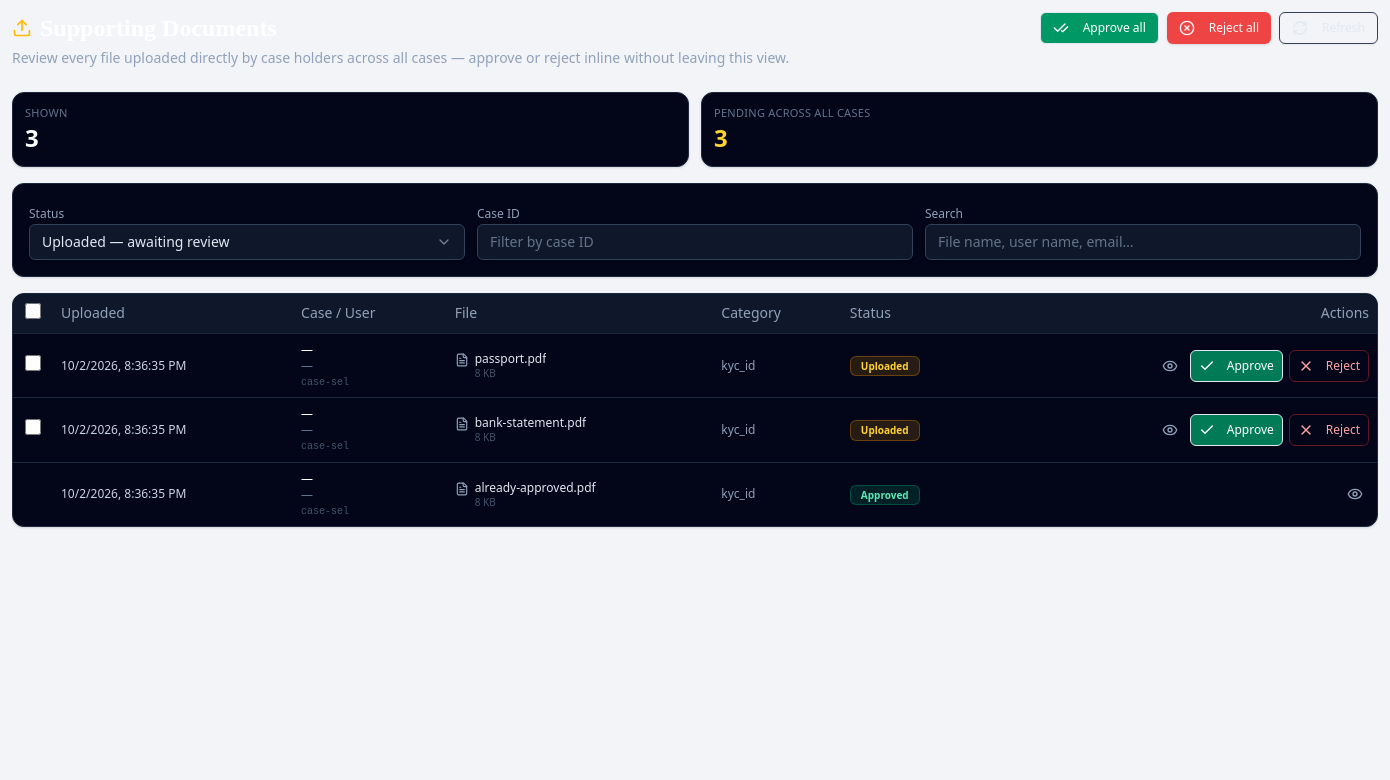
Test: SupportingDocumentsTab – checkbox selection (Task #446) › clicking select-all checks all actionable rows
Step 1. Click the checkbox with test id "checkbox-select-all-supporting-docs" → [33, 311], box [25, 303, 41, 319]
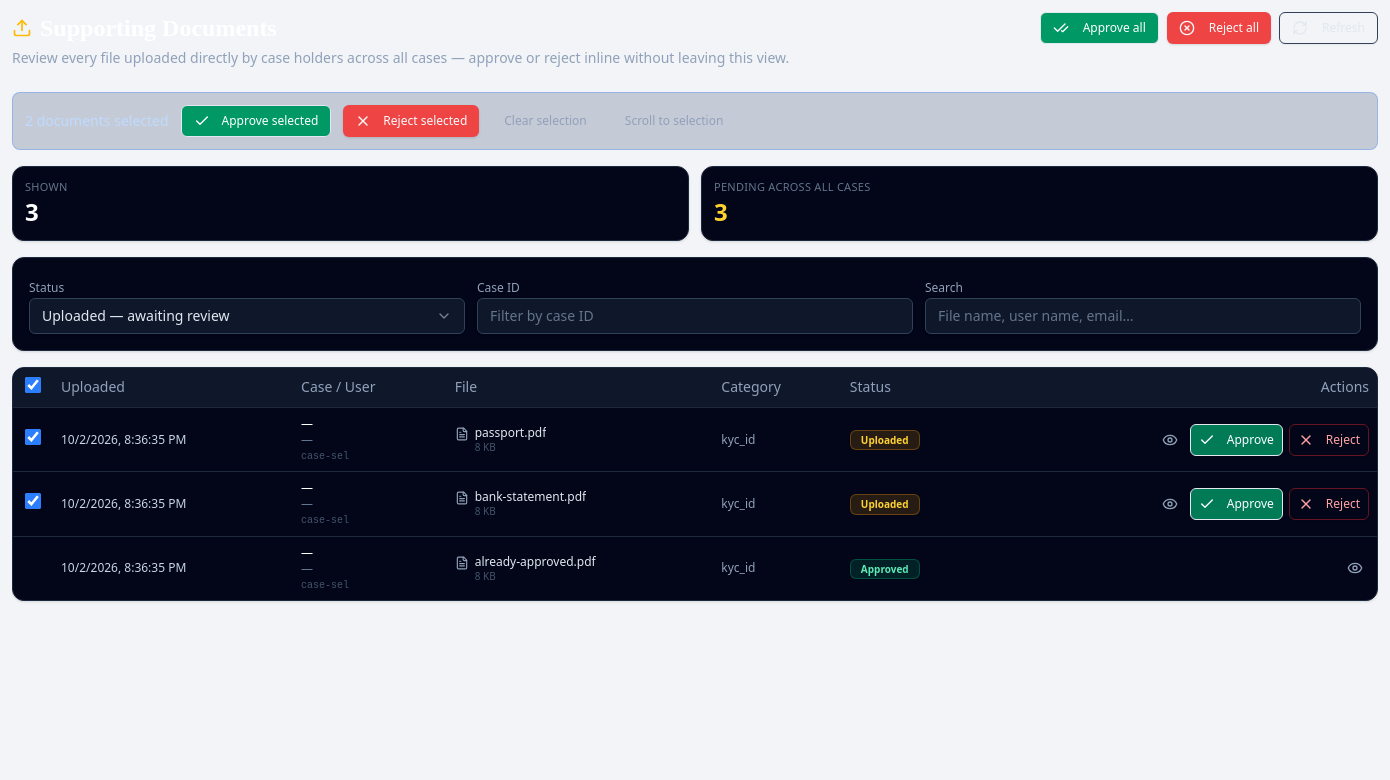
Result: the checkbox with test id "checkbox-supporting-doc-20" is checked at [25, 429, 41, 445]
Result: the checkbox with test id "checkbox-supporting-doc-21" is checked at [25, 494, 41, 510]
